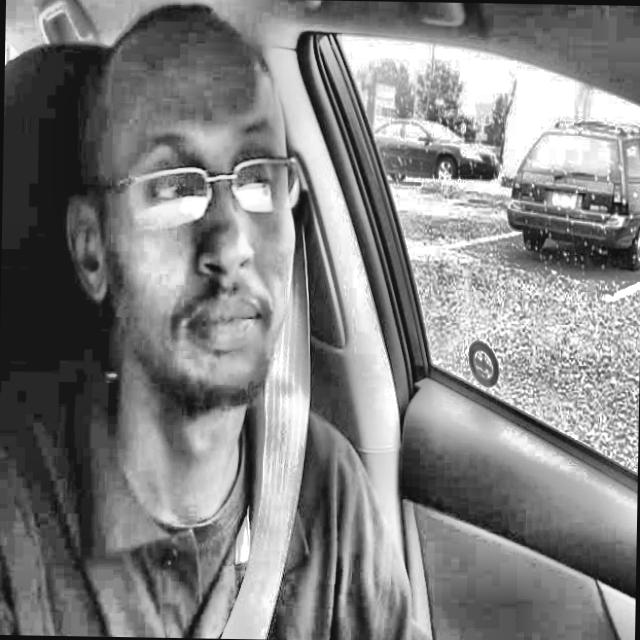closed_mouth: (162, 285, 290, 364)
